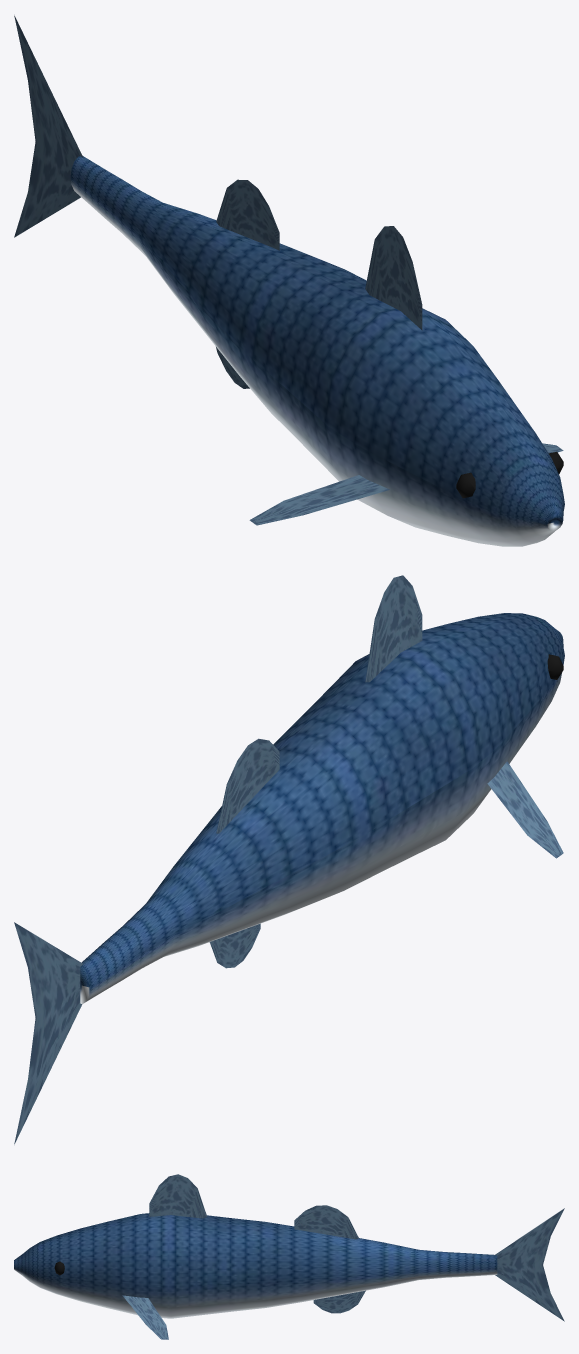
File: bluefin_tuna.glb
3 views of the same model, one above another, from view 1: azimuth 30°, elevation 25°; view 2: azimuth 150°, elevation 25°; view 3: azimuth 270°, elevation 25° (orthographic). The views are drawn at different scales.
Bounding box in the file's own units: 0.6349 × 0.573 × 1.94.
1 material, 1 textured.
